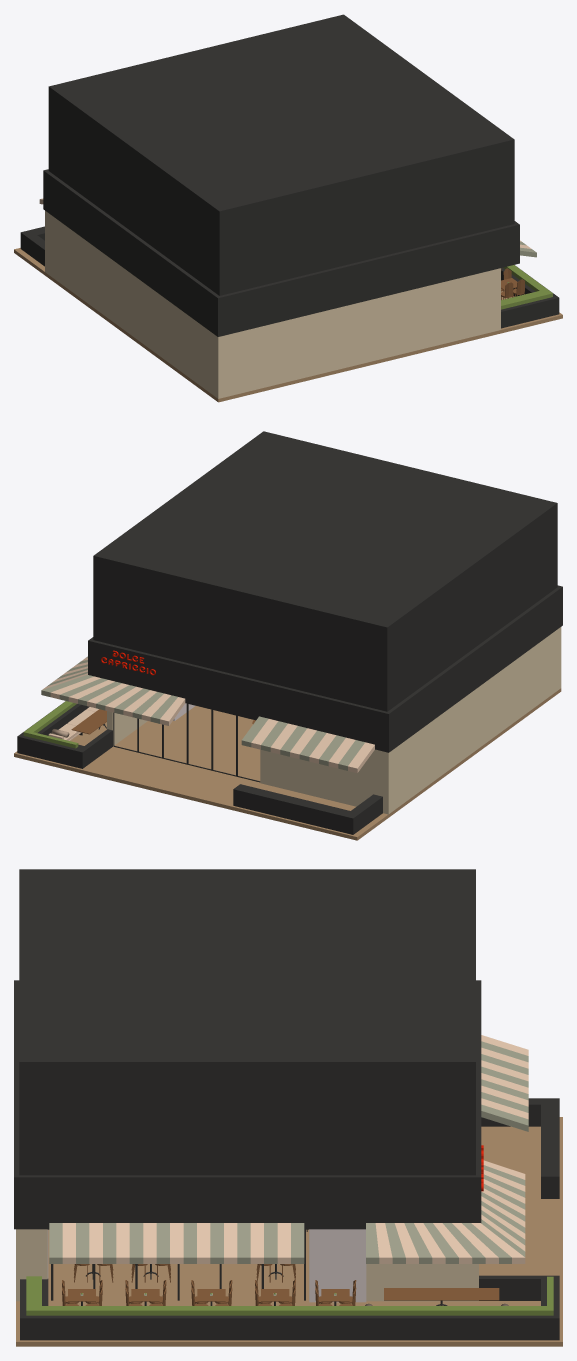
Rendered from Dolce_capriccio2.fbx.
The picture shows the model from 3 angles, top to bottom: view 1: azimuth 30°, elevation 25°; view 2: azimuth 150°, elevation 25°; view 3: azimuth 270°, elevation 25°; orthographic projection. The views are drawn at different scales.
Visible parts, largest first — view 1: Plane.001, Cube.029, Cube.028, Cube.039; view 2: Plane.001, Cube.028, Plane.004, Cube.029, Plane.003, Cube.023; view 3: Plane.001, Cube.029, Plane.004, Cube.028, Cube.013, Cube.046, Cube.040, Cube.041, Cube.044, Cube.042, Cube.039, Cube.027.
Part boxes in pixels (left/top/right/bottom): Plane.001: left=43, top=14, right=519, bottom=398; Cube.029: left=20, top=226, right=559, bottom=328; Cube.028: left=14, top=248, right=562, bottom=402; Cube.039: left=501, top=268, right=524, bottom=299; Plane.001: left=88, top=431, right=562, bottom=814; Cube.028: left=14, top=688, right=561, bottom=840; Plane.004: left=41, top=656, right=374, bottom=773; Cube.029: left=17, top=701, right=382, bottom=834; Plane.003: left=113, top=703, right=260, bottom=782; Cube.023: left=48, top=707, right=98, bottom=740; Plane.001: left=14, top=869, right=481, bottom=1301; Cube.029: left=20, top=1098, right=559, bottom=1340; Plane.004: left=49, top=1035, right=528, bottom=1263; Cube.028: left=16, top=1117, right=562, bottom=1346; Cube.013: left=47, top=1229, right=366, bottom=1302; Cube.046: left=384, top=1288, right=499, bottom=1305; Cube.040: left=125, top=1280, right=166, bottom=1305; Cube.041: left=191, top=1280, right=232, bottom=1305; Cube.044: left=315, top=1280, right=356, bottom=1305; Cube.042: left=255, top=1280, right=295, bottom=1305; Cube.039: left=62, top=1280, right=102, bottom=1305; Cube.027: left=51, top=1229, right=307, bottom=1300.
Bounding box in the file's own units: 863 × 452 × 888.
